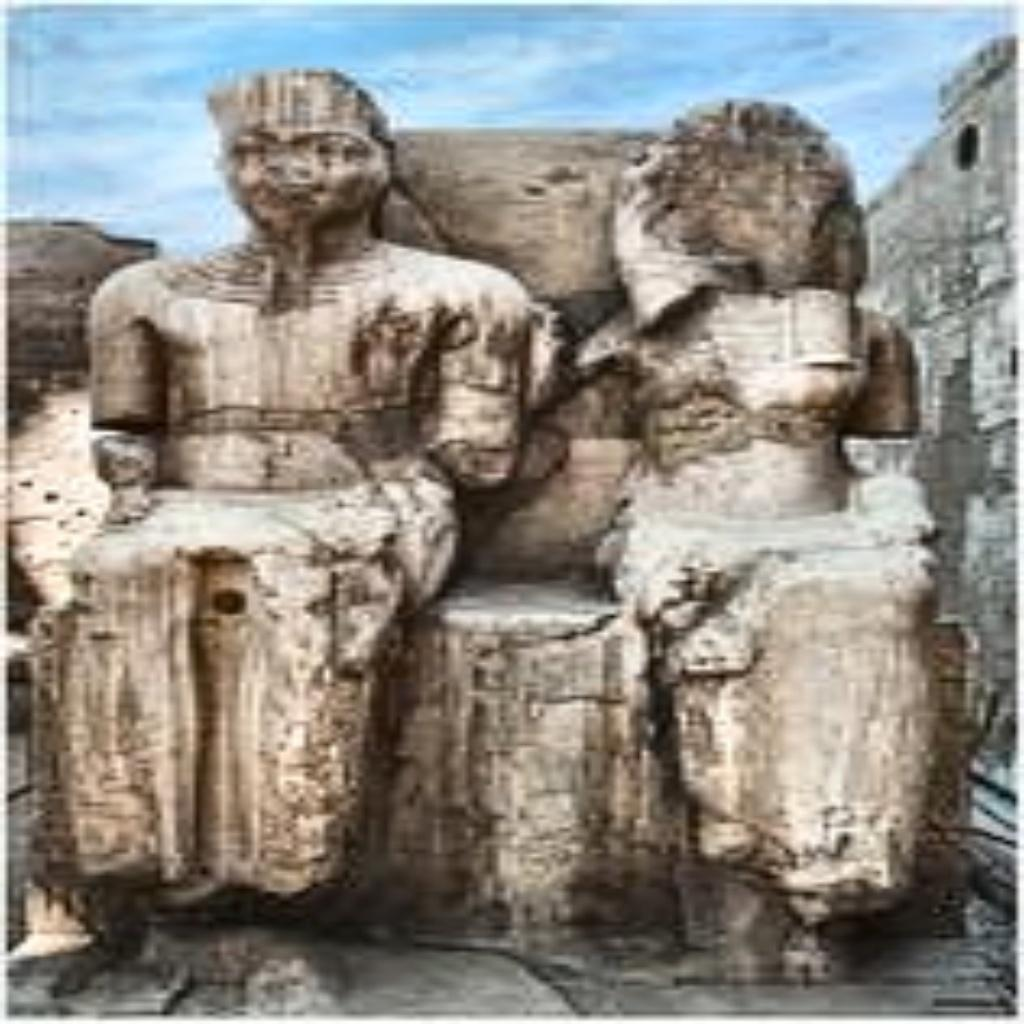Statue of Ankhesenamun: (572, 90, 954, 904)
Statue of Tutankhamun: (48, 60, 536, 897)
